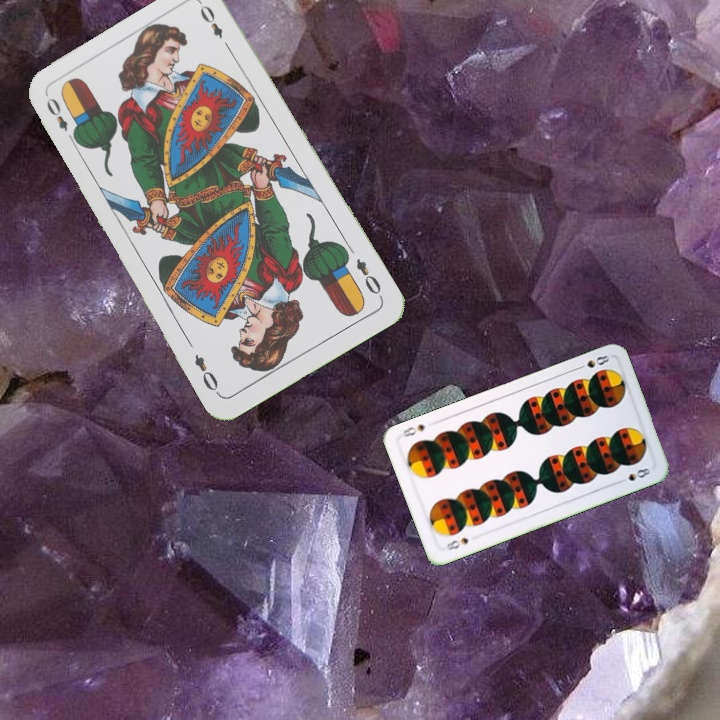EO: (42, 93, 79, 146), (352, 254, 386, 301)
S8: (573, 349, 612, 372), (440, 534, 471, 554)
